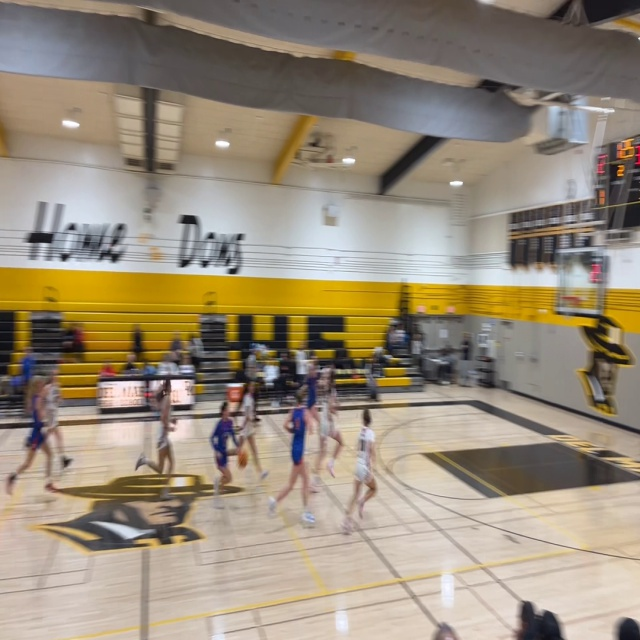Basketball: (237, 449, 248, 468)
